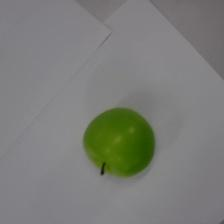green: (81, 105, 156, 179)
